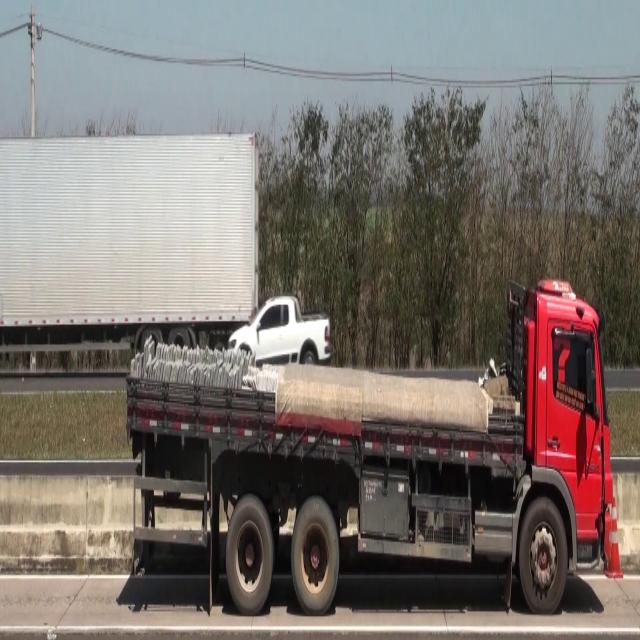-axle: (290, 500, 342, 614), (226, 498, 276, 614), (520, 501, 568, 606)
